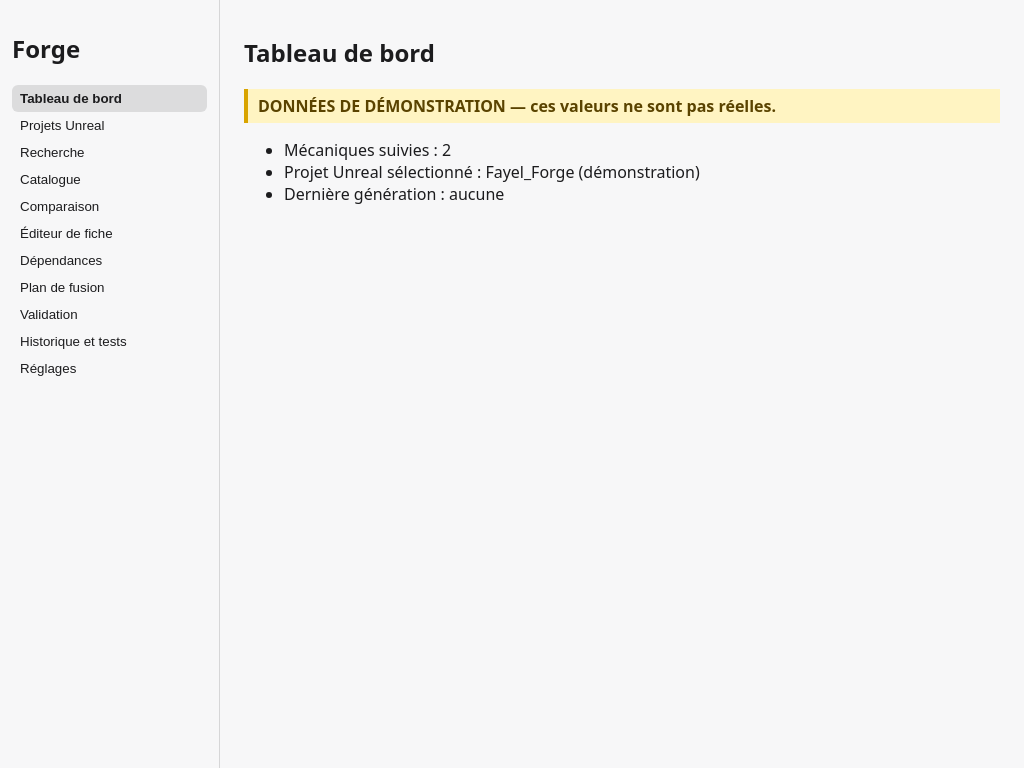
it: page Plan de fusion › signale une erreur de communication
Click the button "Dépendances" at [110, 260], box x1=12 y1=247 x2=207 y2=274
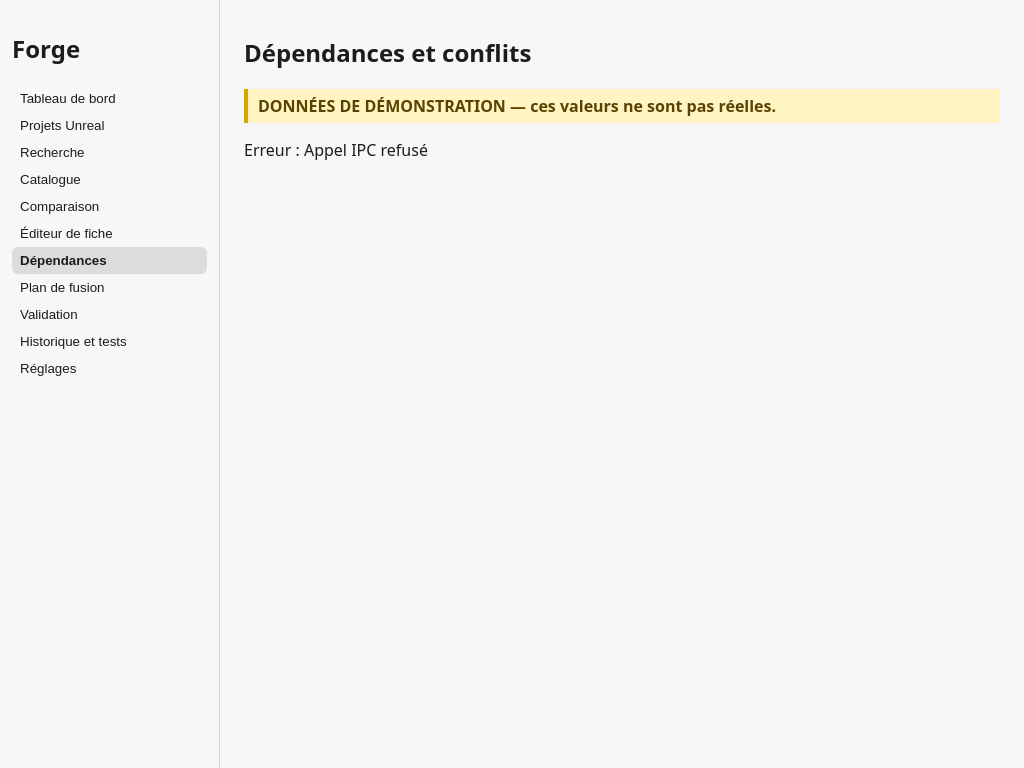
Now the message shows "Appel IPC refusé", box x1=304 y1=139 x2=428 y2=161
